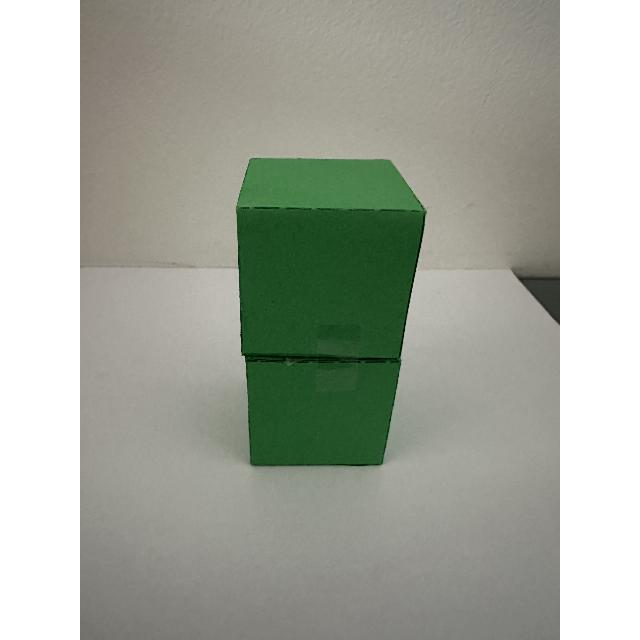green_cube: (235, 126, 428, 498)
